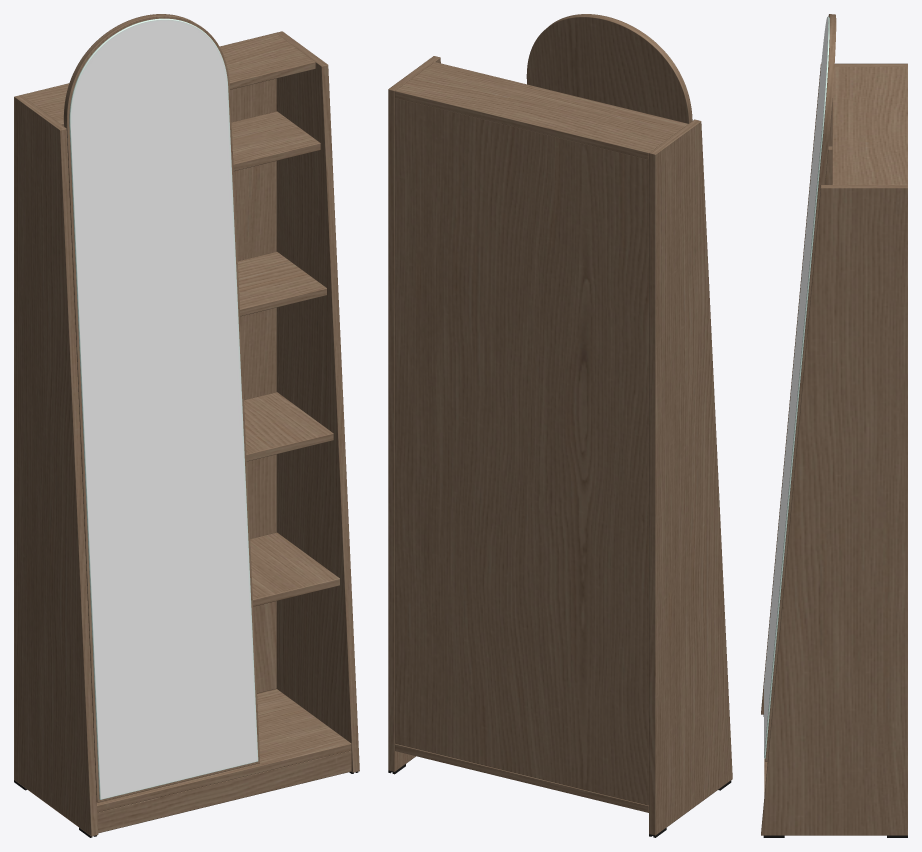
File: mirror37408.glb
3 views of the same model, side by side, from view 1: azimuth 30°, elevation 25°; view 2: azimuth 150°, elevation 25°; view 3: azimuth 270°, elevation 25° (orthographic). The views are drawn at different scales.
Visible parts, largest first — view 1: mirror37408; view 2: mirror37408; view 3: mirror37408.
Boxes of the visible parts, bbox=[...] form: mirror37408: bbox=[14, 14, 359, 837]; mirror37408: bbox=[388, 14, 732, 837]; mirror37408: bbox=[761, 14, 907, 837].
Size of the model in its own units: 0.6 by 1.65 by 0.3.
Materials: 1 (1 with a texture image).
